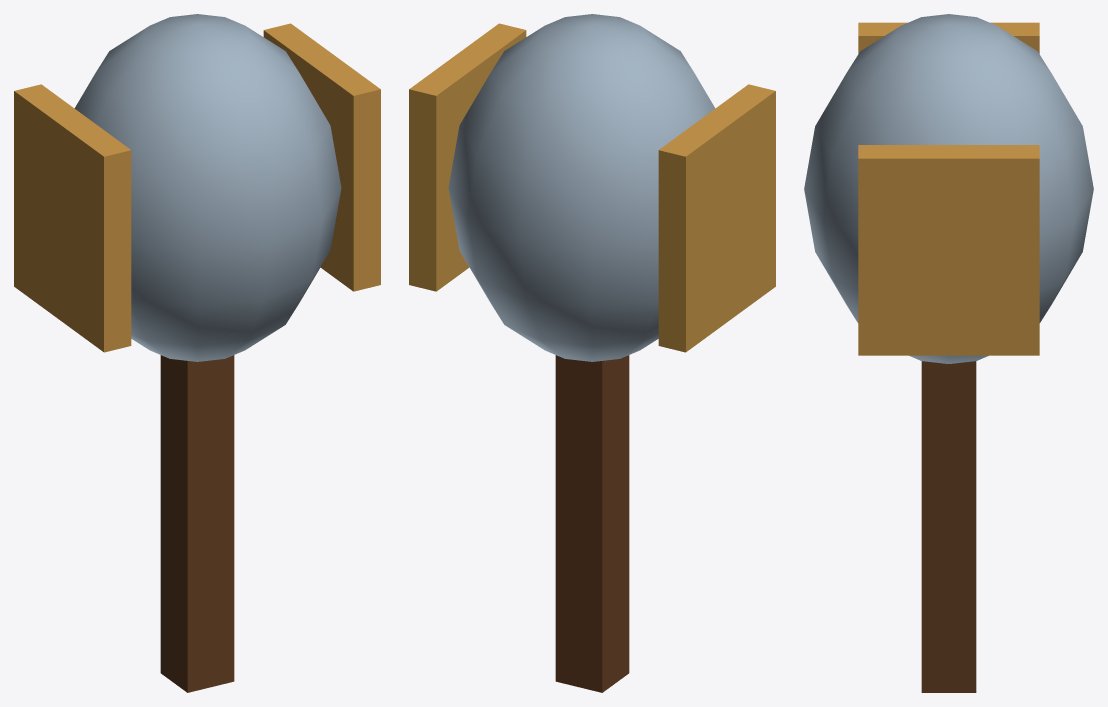
The model's file is oneHandMace.glb.
3 views of the same model, side by side, from view 1: azimuth 30°, elevation 25°; view 2: azimuth 150°, elevation 25°; view 3: azimuth 270°, elevation 25° (orthographic).
Parts seen in each view (by area): view 1: Head, Flange, Shaft; view 2: Head, Flange, Shaft; view 3: Head, Flange, Shaft.
Boxes of the visible parts, x1=… form: Head: x1=74, y1=14, x2=341, y2=361; Flange: x1=14, y1=23, x2=380, y2=352; Shaft: x1=160, y1=355, x2=234, y2=692; Head: x1=448, y1=14, x2=715, y2=361; Flange: x1=409, y1=23, x2=775, y2=352; Shaft: x1=555, y1=355, x2=629, y2=692; Head: x1=804, y1=14, x2=1093, y2=363; Flange: x1=858, y1=22, x2=1039, y2=355; Shaft: x1=921, y1=361, x2=976, y2=692.
Bounding box in the file's own units: 0.355 × 0.8 × 0.32.
